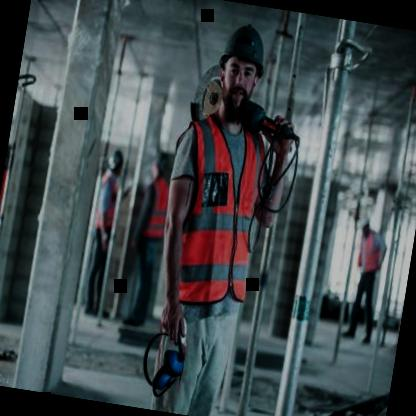helmet: (209, 14, 273, 124), (102, 145, 128, 179), (150, 146, 171, 180)
